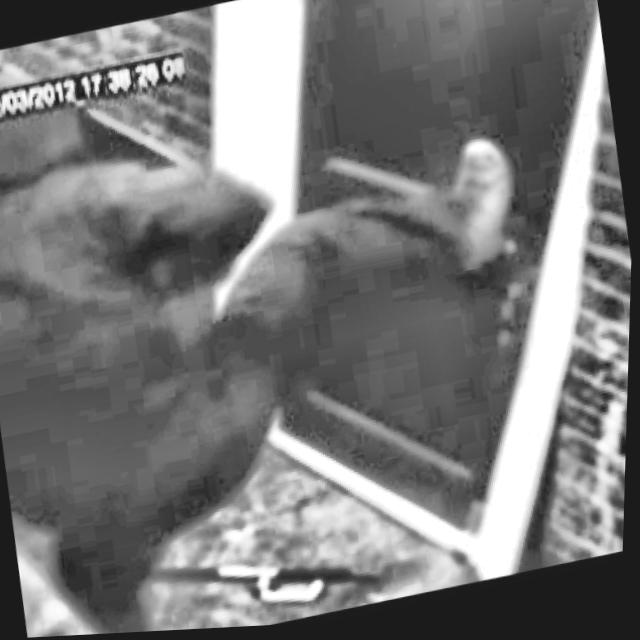burglary: (39, 16, 611, 576)
